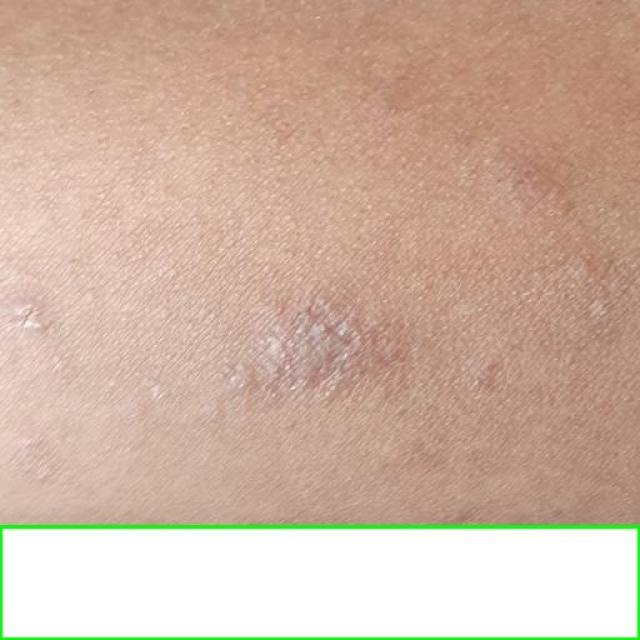Scabies: (0, 526, 639, 639)
